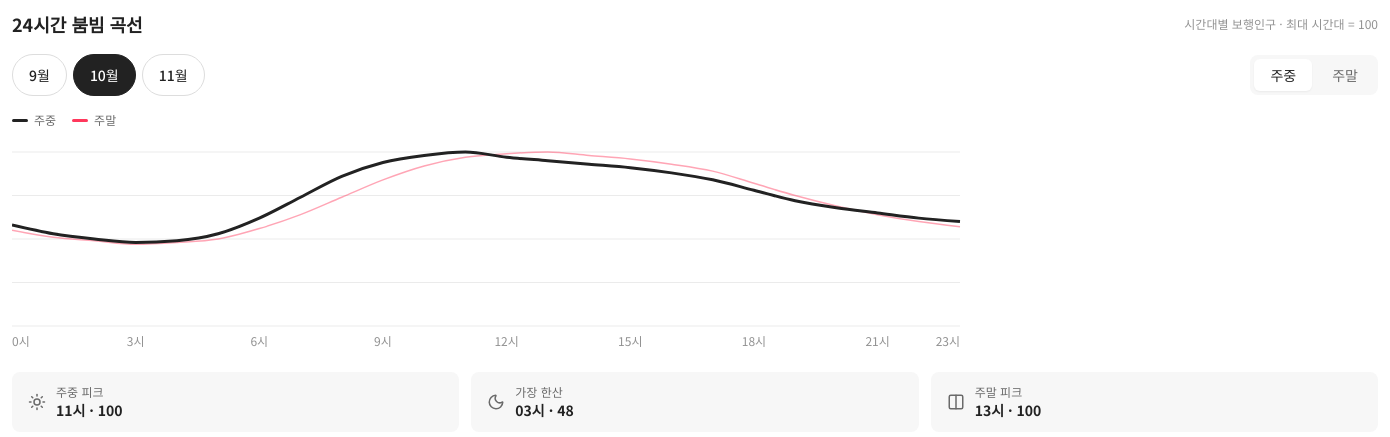
HourlyCurveSection › 주말 토글 시 가장 한산 칸이 주말 값으로 바뀐다
Click the tab "주말" at (1345, 75), box top-left (1316, 59), bottom-right (1374, 91)
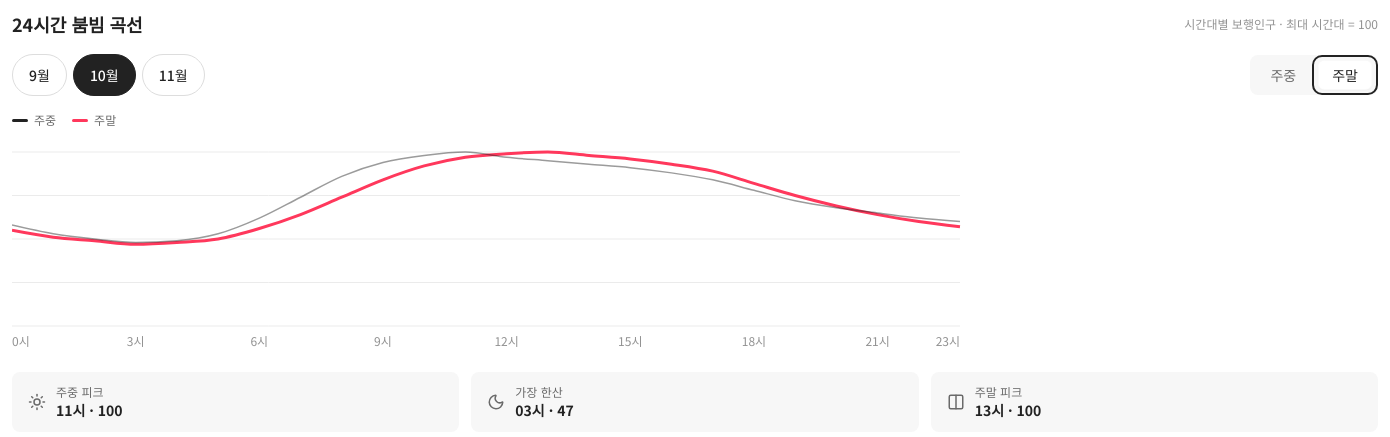
Check: the text "03시 · 47" is shown, box top-left (515, 400), bottom-right (574, 420)
